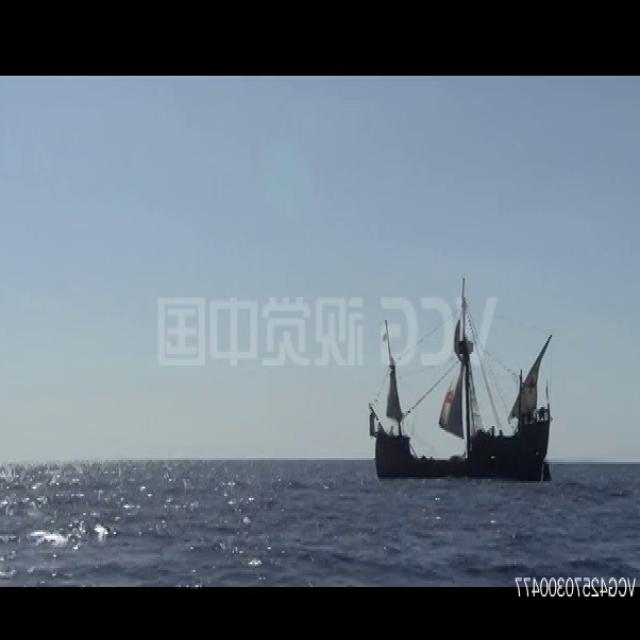sailboat: (369, 292, 562, 482)
